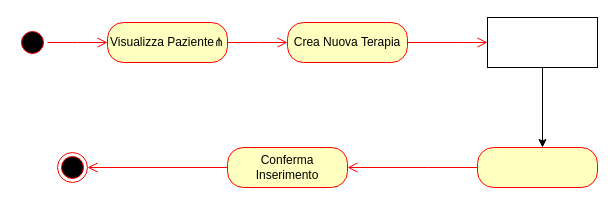
The diagram is 615 pixels wide and 205 high, and some of its shapes have lost their labels. Each missing label, with the box of its shape:
Inserisci terapia: (476, 146, 598, 188)
Terapia [Nuova]: (486, 16, 598, 68)
